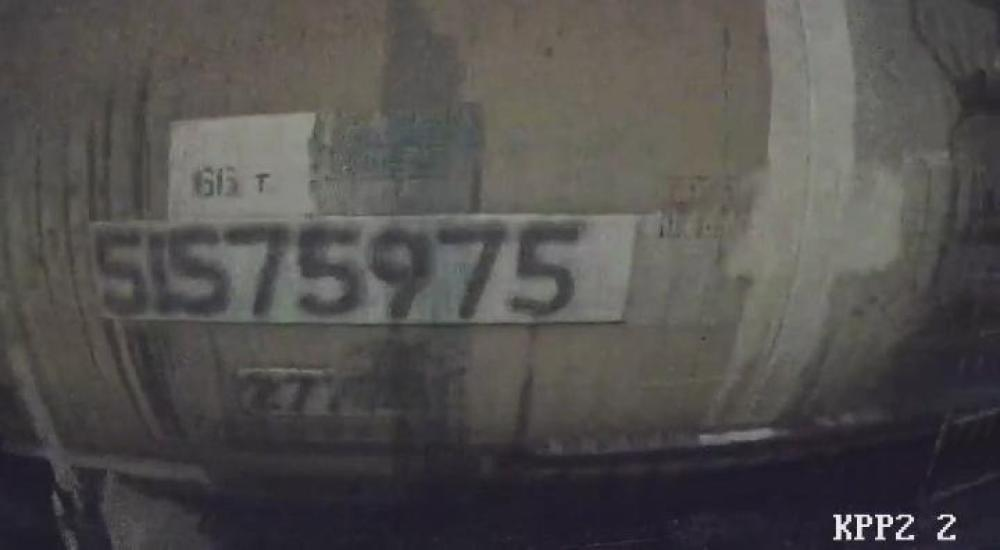Wagon-number: (84, 215, 592, 322)
